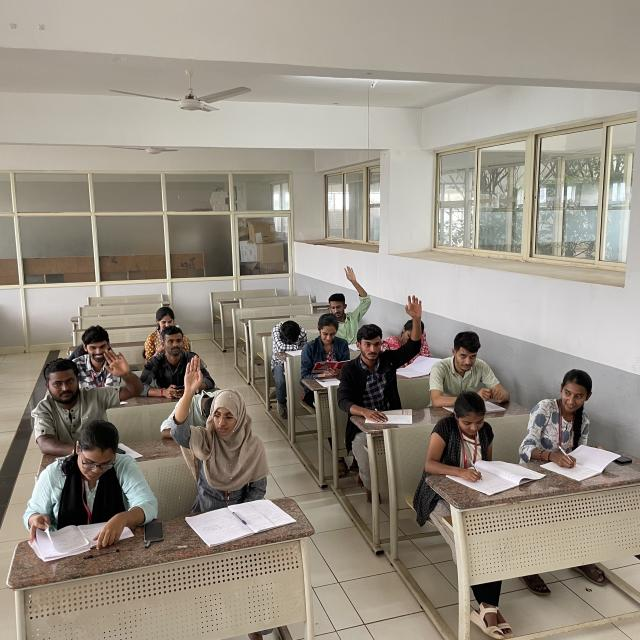Hand Rising: (163, 352, 268, 508), (34, 339, 146, 437), (340, 298, 421, 409), (325, 262, 372, 334)
Reading: (21, 423, 145, 552), (303, 314, 351, 378)
Sleeping: (269, 313, 311, 356)
Using Phone: (435, 326, 517, 407), (142, 329, 193, 402)
Writing: (522, 370, 612, 481), (431, 393, 531, 492)
